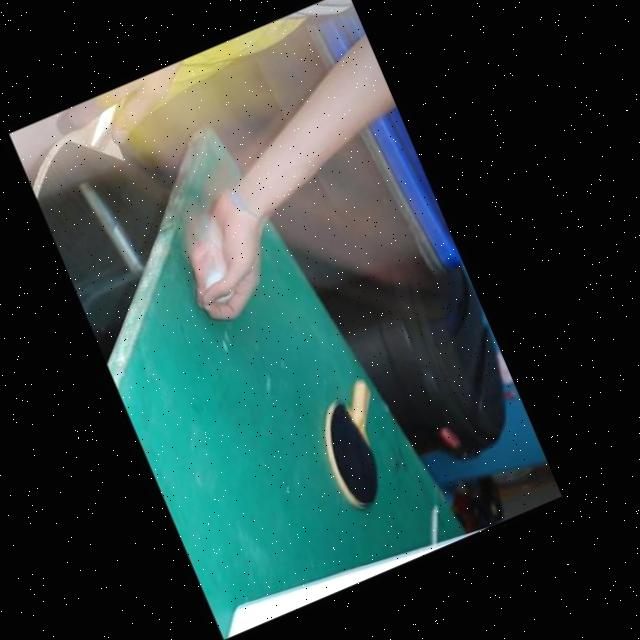ping-pong-ball: (200, 268, 242, 310)
